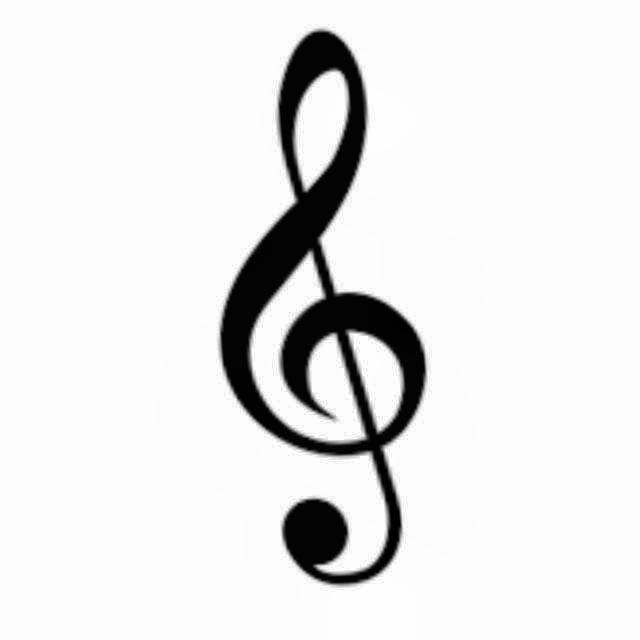Treble-clef: (194, 20, 452, 596)
